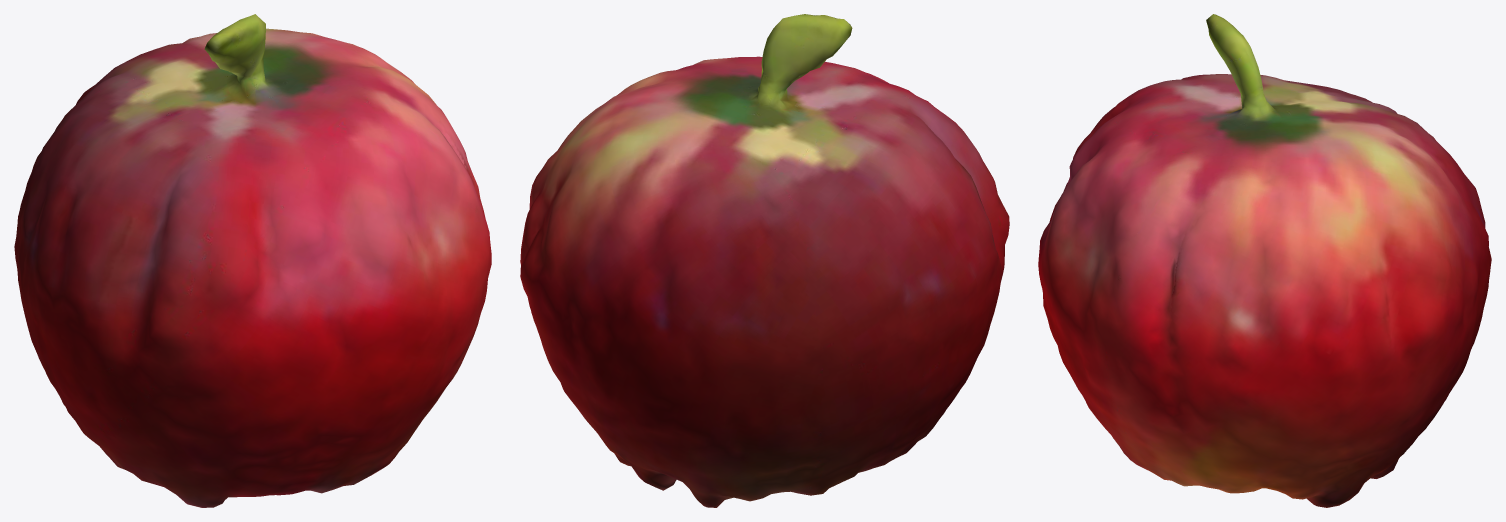
The model's file is Apple.glb.
The picture shows the model from 3 angles, left to right: view 1: azimuth 30°, elevation 25°; view 2: azimuth 150°, elevation 25°; view 3: azimuth 270°, elevation 25°; orthographic projection. The views are drawn at different scales.
Parts seen in each view (by area): view 1: Mesh1; view 2: Mesh1; view 3: Mesh1.
Part boxes in pixels (box(x1,y1,x2,y2)): Mesh1: box(14, 14, 491, 507); Mesh1: box(520, 14, 1009, 507); Mesh1: box(1038, 14, 1491, 507).
Bounding box in the file's own units: 1.15 × 1.2 × 1.16.
1 material, 1 textured.
